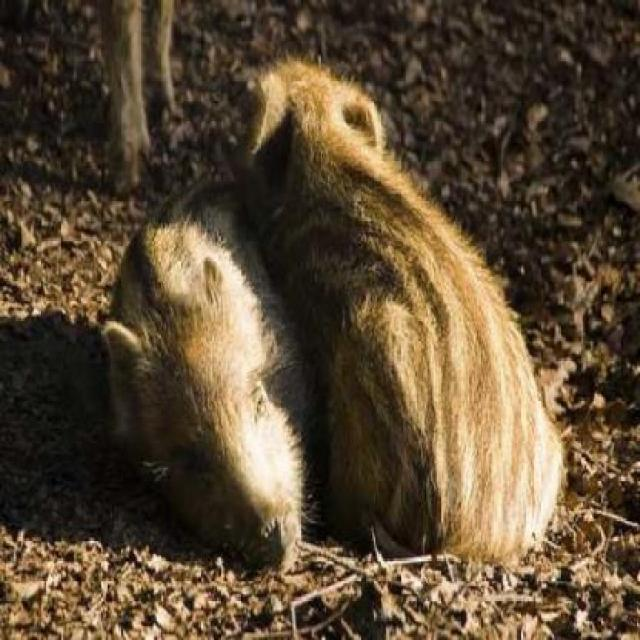pig: (182, 43, 639, 599)
